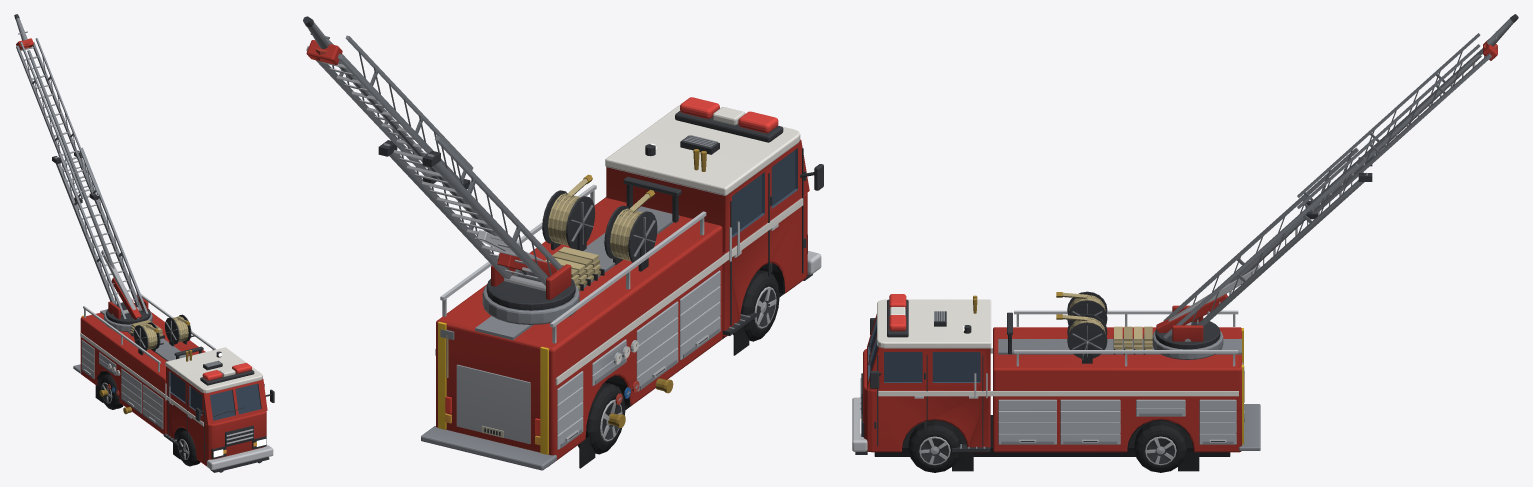
Rendered from fire-engine-near.glb.
The picture shows the model from 3 angles, left to right: view 1: azimuth 30°, elevation 25°; view 2: azimuth 150°, elevation 25°; view 3: azimuth 270°, elevation 25°; orthographic projection. The views are drawn at different scales.
Parts seen in each view (by area): view 1: FireEngine, Ladder; view 2: FireEngine, Ladder; view 3: FireEngine, Ladder.
Boxes of the visible parts, x1,y1,x2,y2 form: FireEngine: (73, 294, 274, 472); Ladder: (14, 14, 150, 324); FireEngine: (421, 97, 823, 470); Ladder: (303, 16, 575, 310); FireEngine: (852, 291, 1260, 472); Ladder: (1155, 14, 1518, 349).
Bounding box in the file's own units: 1.67 × 6.25 × 8.62.
